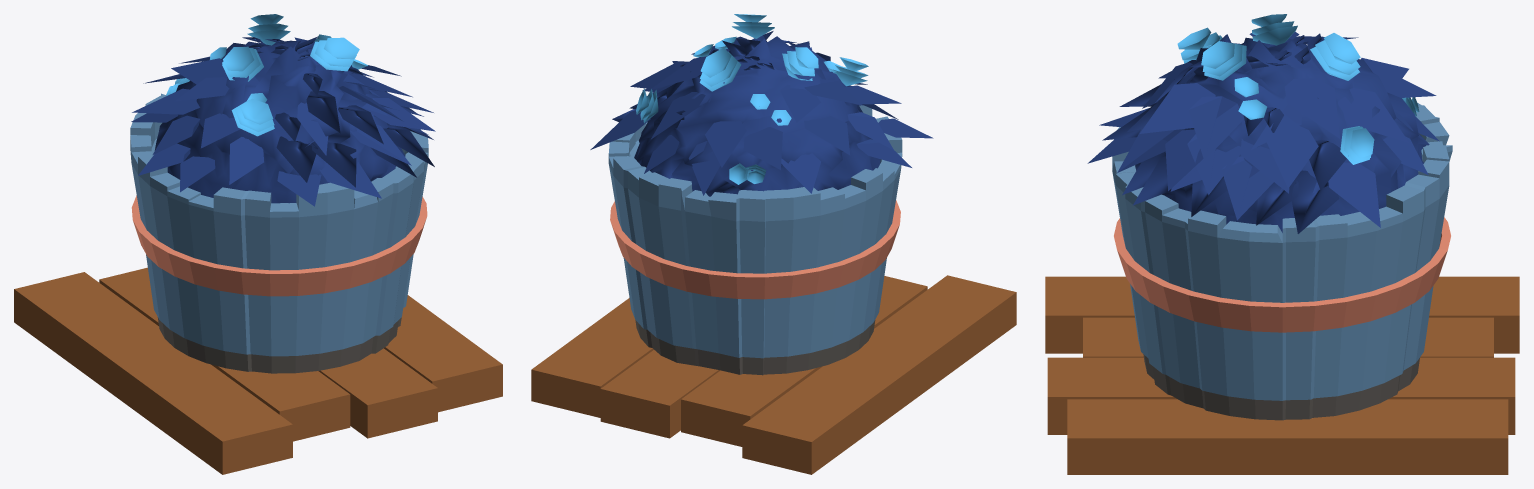
File: flower_pot.glb
3 renders of one model, left to right at view 1: azimuth 30°, elevation 25°; view 2: azimuth 150°, elevation 25°; view 3: azimuth 270°, elevation 25°, orthographic. The views are drawn at different scales.
Parts seen in each view (by area): view 1: Plane.005; view 2: Plane.005; view 3: Plane.005.
Boxes of the visible parts, left/top/right/bottom form: Plane.005: left=14, top=14, right=502, bottom=474; Plane.005: left=531, top=14, right=1016, bottom=474; Plane.005: left=1045, top=14, right=1519, bottom=474.
Bounding box in the file's own units: 2.32 × 2.44 × 2.79.
